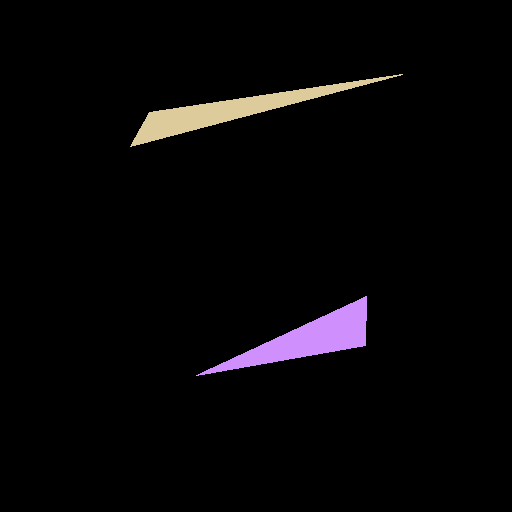triangle: (130, 74, 402, 146), (196, 296, 366, 375)
